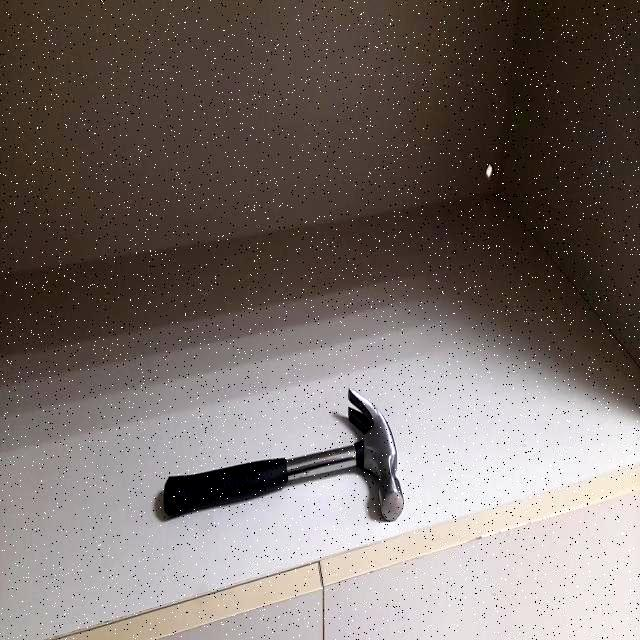hammer: (166, 392, 400, 524)
